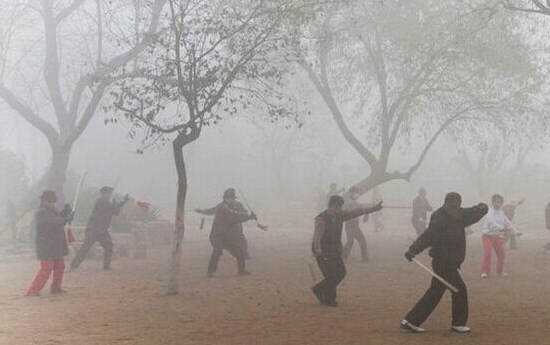person: (400, 191, 489, 333), (311, 195, 383, 307), (64, 186, 130, 273), (26, 190, 74, 297), (207, 191, 258, 279), (194, 188, 253, 260), (481, 194, 524, 278), (342, 186, 380, 263), (498, 198, 526, 250), (411, 187, 434, 245), (326, 183, 345, 231)
